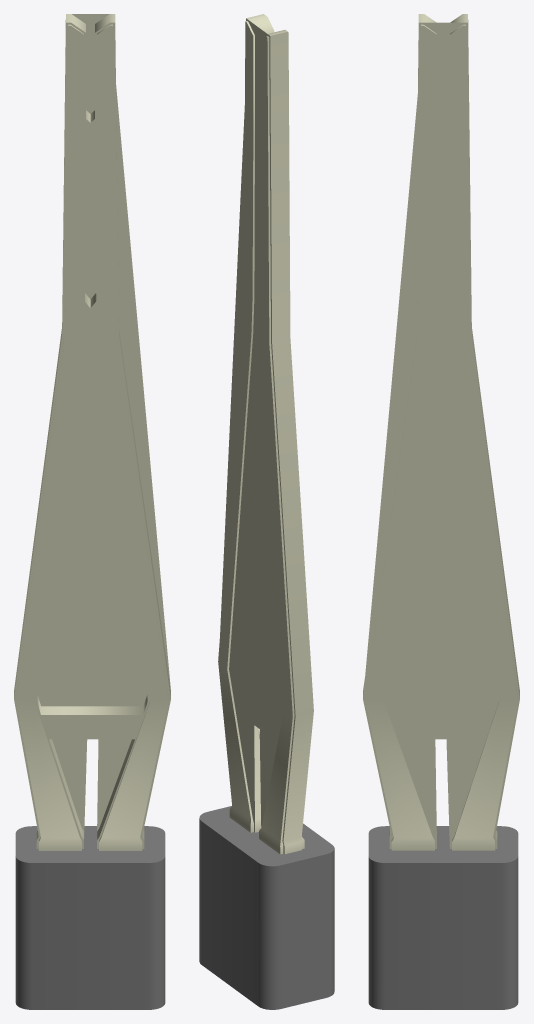
File: tatara-tower.obj
3 renders of one model, left to right at view 1: azimuth 90°, elevation 25°; view 2: azimuth 210°, elevation 25°; view 3: azimuth 270°, elevation 25°, orthographic. The views are drawn at different scales.
Bounding box in the file's own units: 21 × 258 × 37.76.
